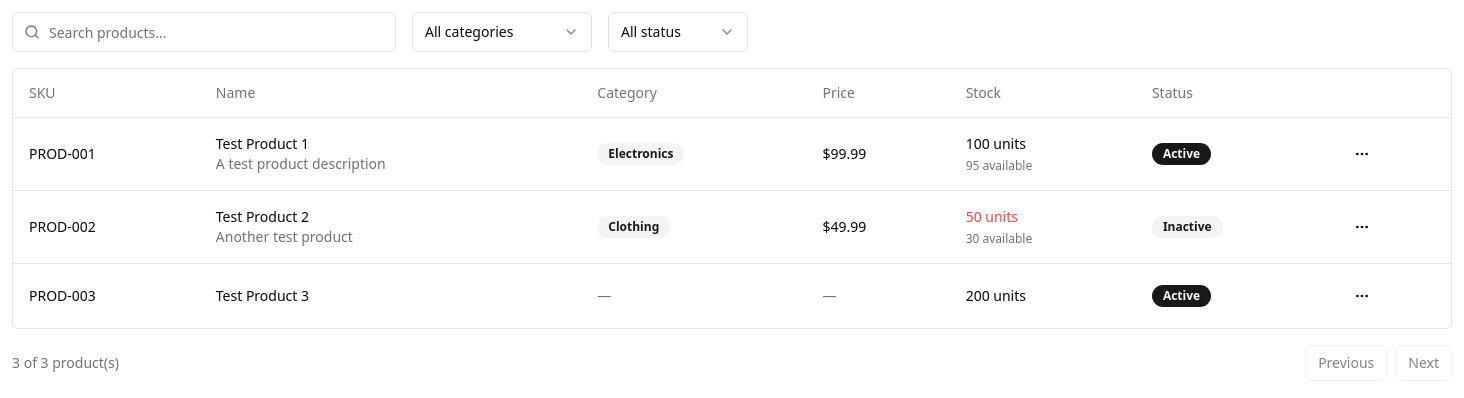
Test: ProductsTable › Search Functionality › should filter products by description
The width and height of the screenshot is (1464, 398).
Type "test product description" into the field with placeholder "Search products..." at (204, 32), box [12,12,396,52]
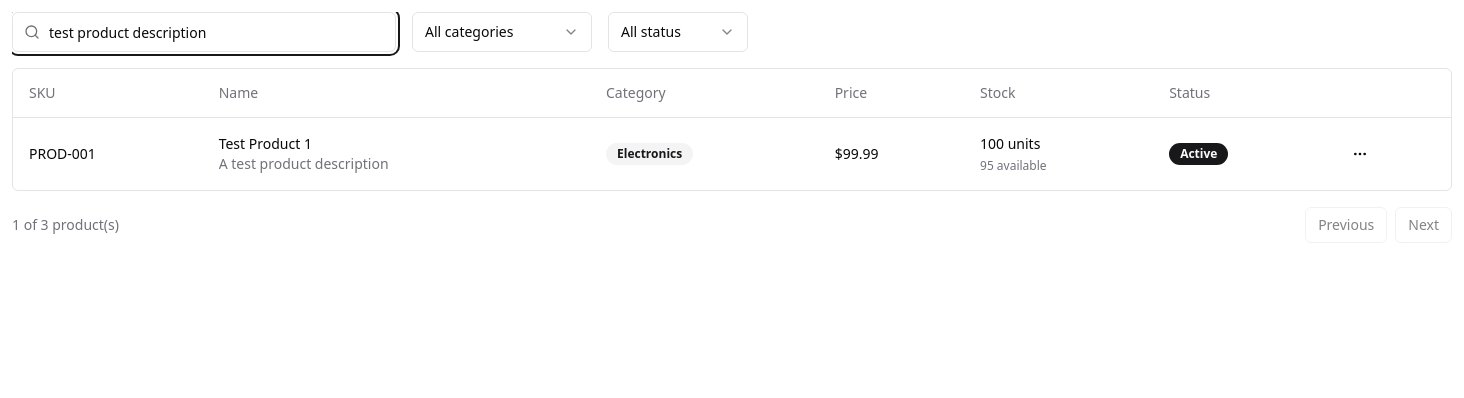
Check: the text "A test product description" is shown, box [219,154,389,172]
Check: the text "Another test product" is gone
